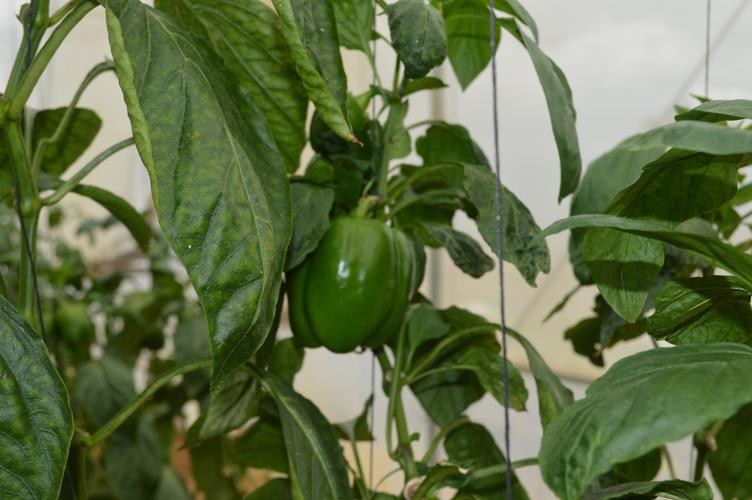BellPepper: (267, 198, 418, 364)
